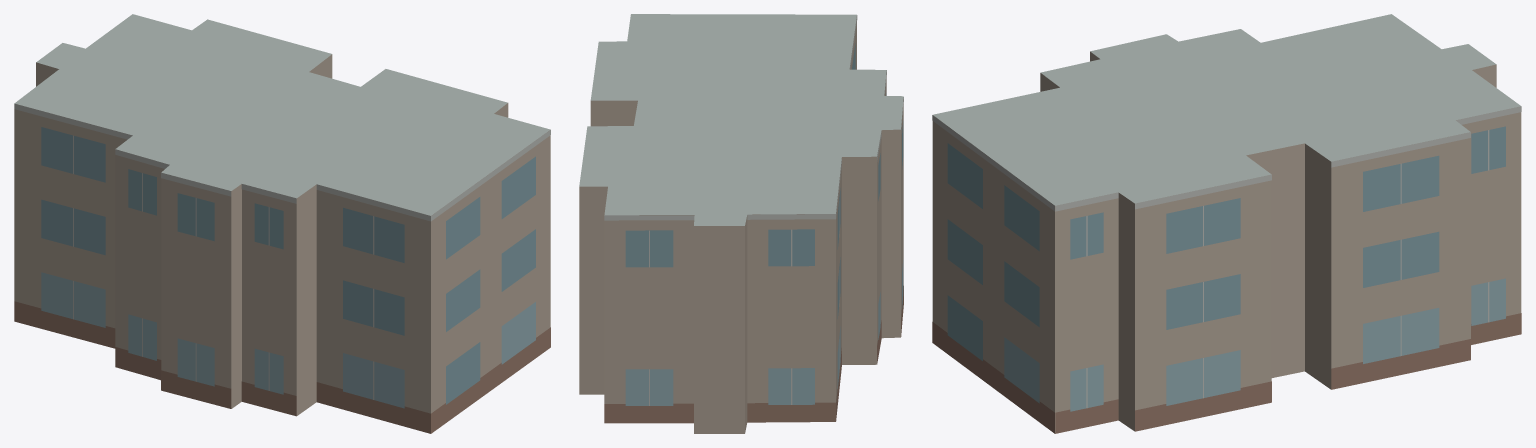
Rendered from survey-upis-32631737.glb.
3 views of the same model, side by side, from view 1: azimuth 30°, elevation 25°; view 2: azimuth 150°, elevation 25°; view 3: azimuth 270°, elevation 25° (orthographic). The views are drawn at different scales.
Visible parts, largest first — view 1: survey-upis-32631737.tmp; view 2: survey-upis-32631737.tmp; view 3: survey-upis-32631737.tmp.
Boxes of the visible parts, box(x1,y1,x2,y2) form: survey-upis-32631737.tmp: box(14, 14, 550, 433); survey-upis-32631737.tmp: box(579, 14, 903, 433); survey-upis-32631737.tmp: box(932, 14, 1521, 433).
Bounding box in the file's own units: 17.14 × 9.5 × 22.24.
